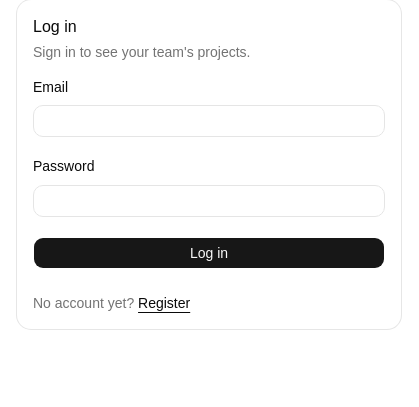
it: LoginPage › does not blame the credentials for a 429 response
Type " ada@example.com " into the field labelled "Email" at [209, 121], box 33,105 -> 385,137
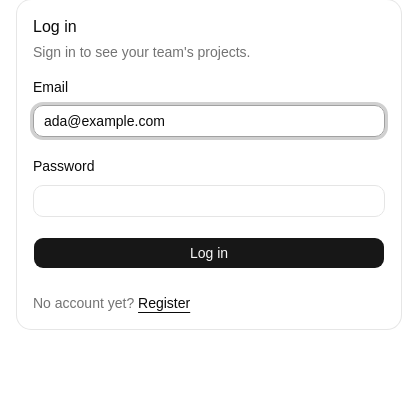
Type "correct horse" into the password field labelled "Password" at [209, 200], box 33,184 -> 385,216
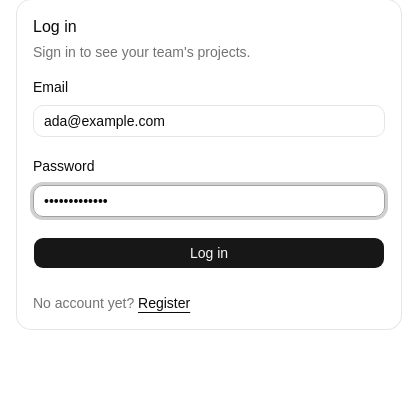
Click the button "Log in" at [209, 252], box 33,236 -> 385,268
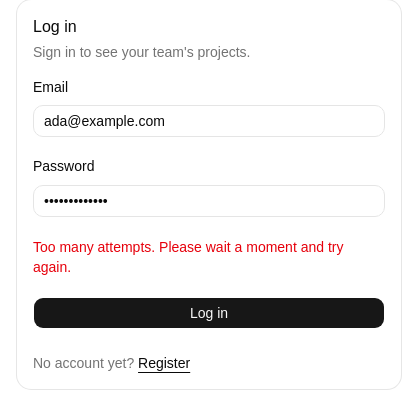
Expected: the text "Too many attempts. Please wait a moment and try again." is shown, 33,236 -> 385,276
